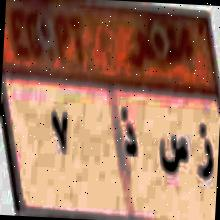7: (48, 102, 70, 160)
seen: (156, 127, 190, 178)
zaal: (116, 105, 140, 166)
zay: (191, 119, 216, 193)
